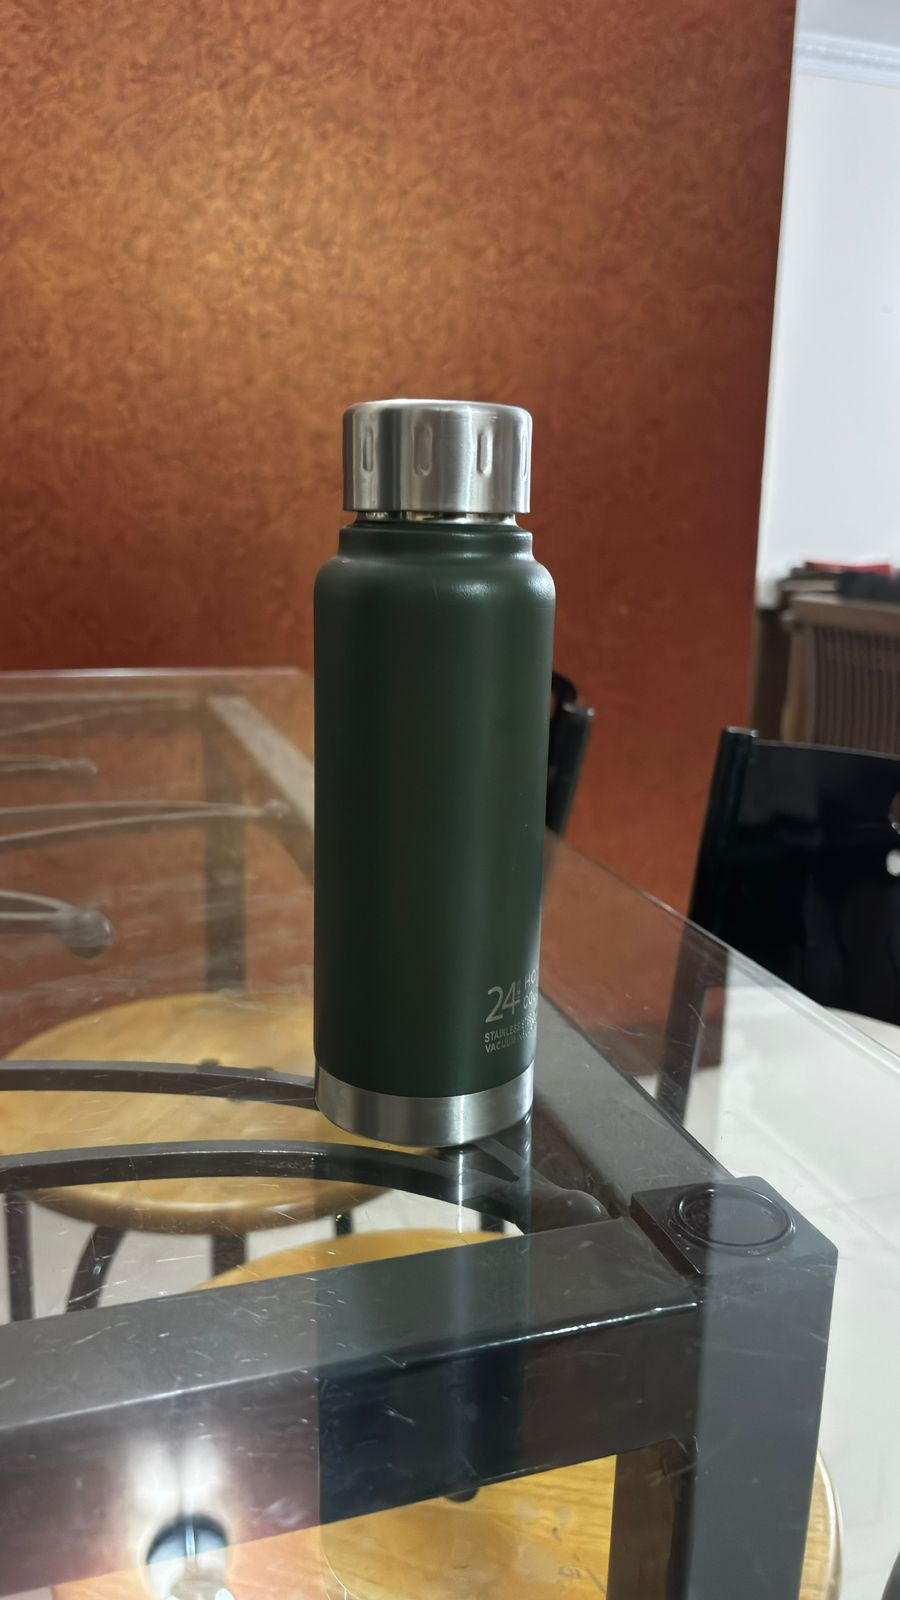bottle: (296, 390, 570, 1158)
